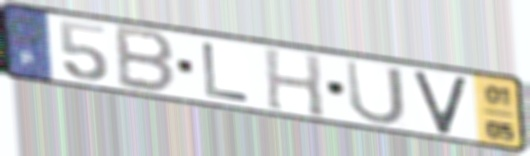5: (56, 18, 109, 83)
B: (114, 23, 178, 96)
H: (261, 45, 327, 120)
L: (199, 40, 253, 105)
U: (342, 57, 409, 127)
V: (411, 70, 471, 137)
